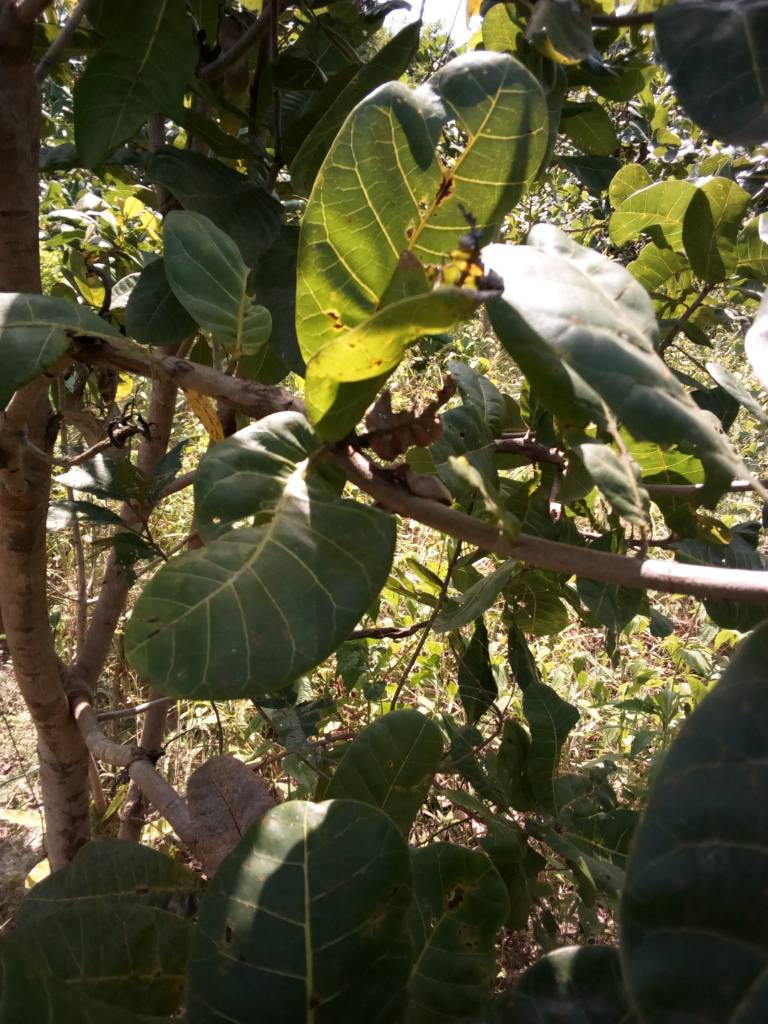Anoplonemis curvipes: (285, 38, 565, 430)
